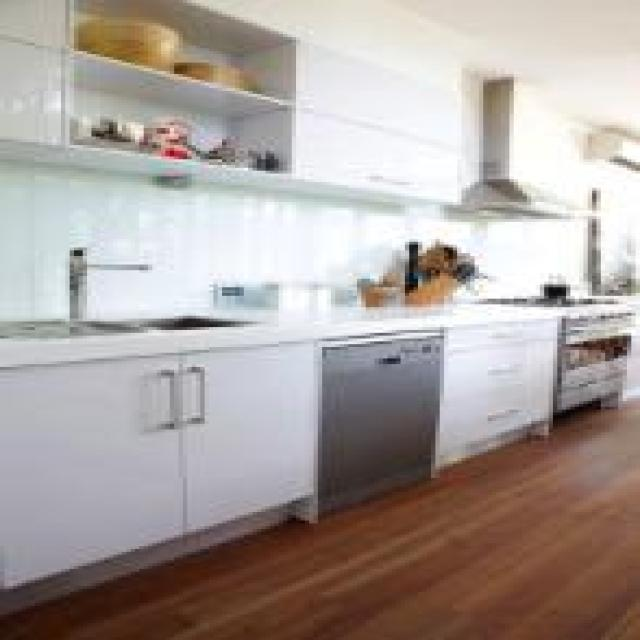dishwasher: (318, 322, 427, 520)
